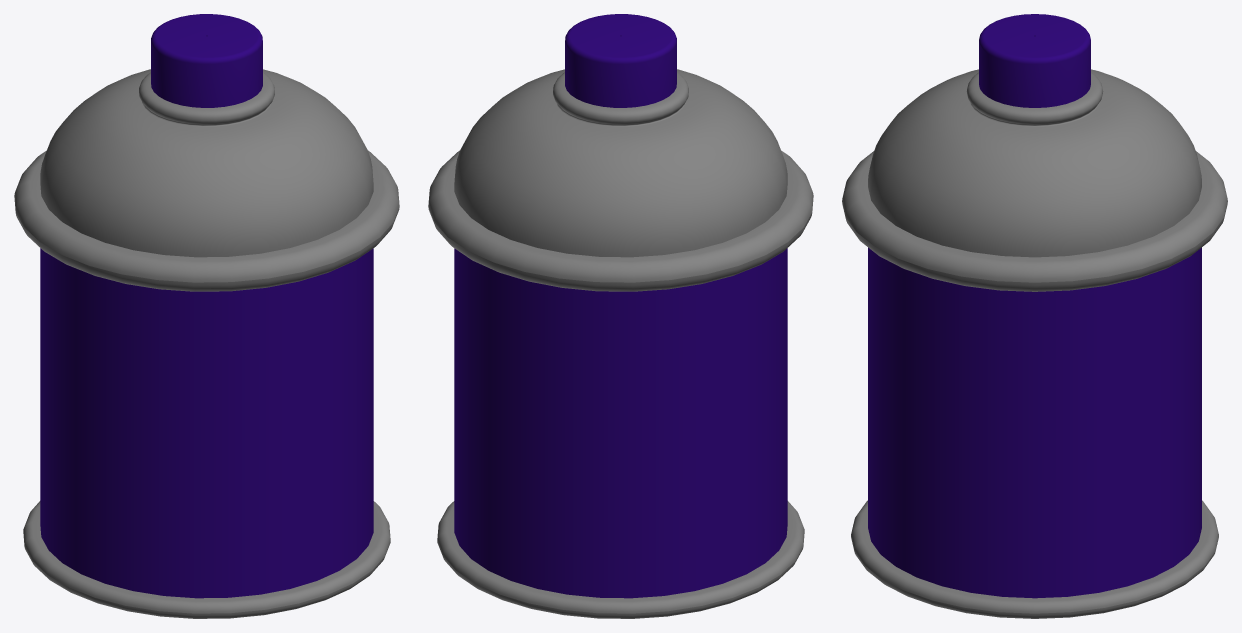
File: Spray_Can.fbx
3 renders of one model, left to right at view 1: azimuth 30°, elevation 25°; view 2: azimuth 150°, elevation 25°; view 3: azimuth 270°, elevation 25°, orthographic.
Parts seen in each view (by area): view 1: Spray_Can; view 2: Spray_Can; view 3: Spray_Can.
Boxes of the visible parts, x1=… form: Spray_Can: x1=14, y1=14, x2=399, y2=618; Spray_Can: x1=428, y1=14, x2=813, y2=618; Spray_Can: x1=842, y1=14, x2=1227, y2=618.
Size of the model in its own units: 5.65 by 8.21 by 5.65.
